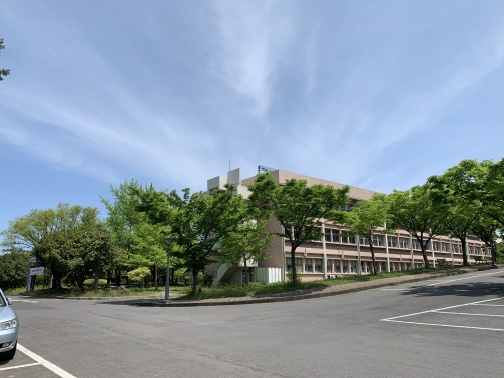College Of Education: (200, 155, 494, 298)
